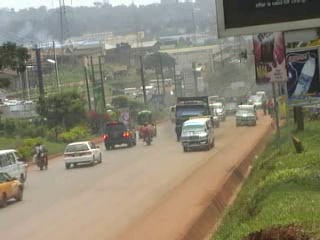Car: (63, 139, 103, 172), (102, 119, 136, 153), (0, 169, 24, 207), (212, 100, 226, 121), (222, 100, 237, 116), (211, 108, 220, 129)
Motorcycle: (30, 139, 52, 171), (140, 121, 154, 146)
